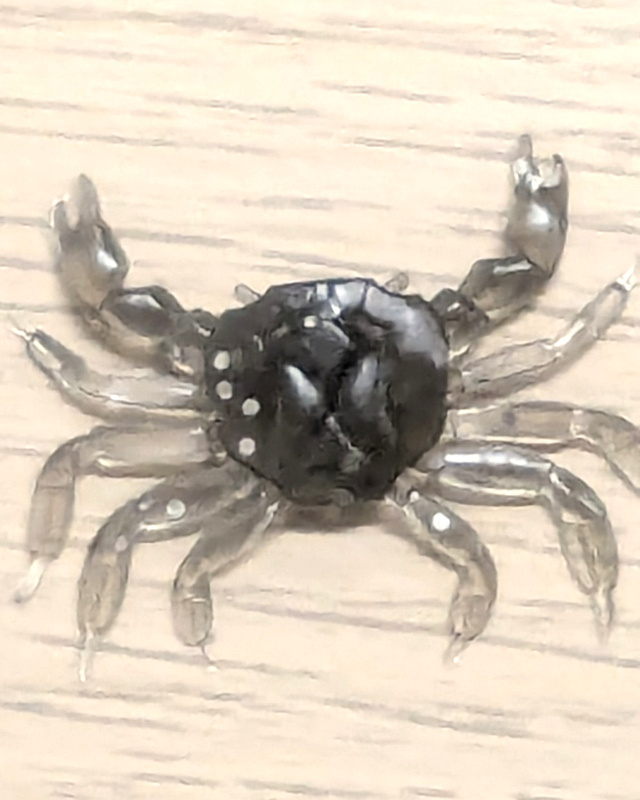crab1: (13, 134, 640, 685)
